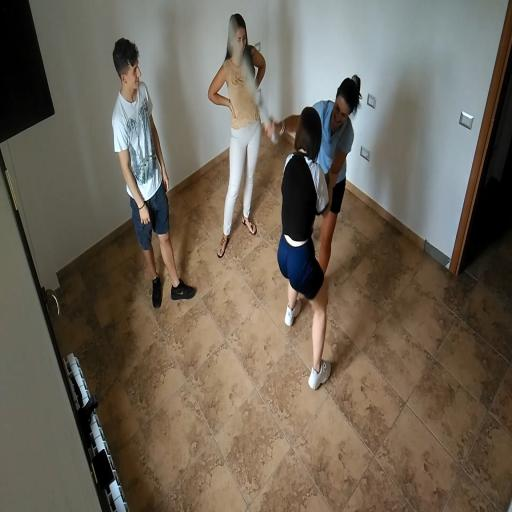violencia: (196, 0, 376, 396)
